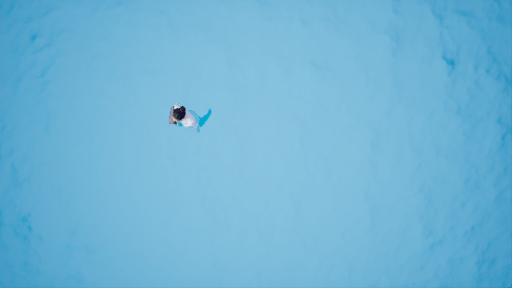person: (167, 102, 214, 134)
